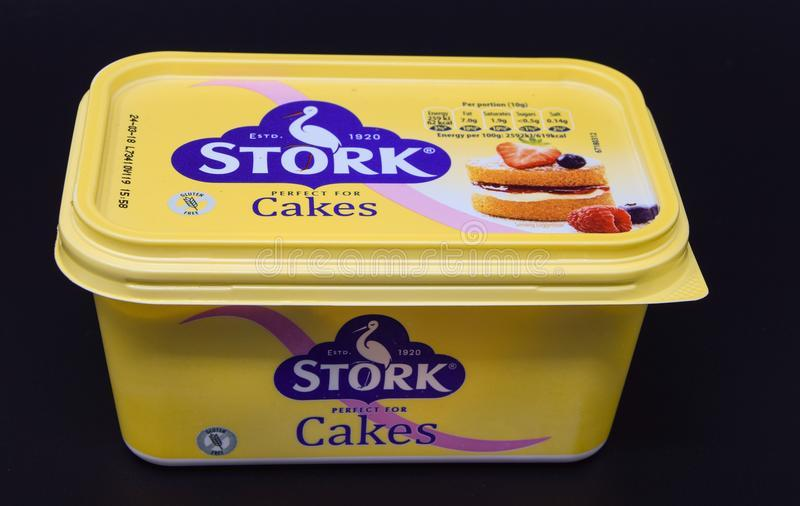plastic: (56, 52, 705, 464)
